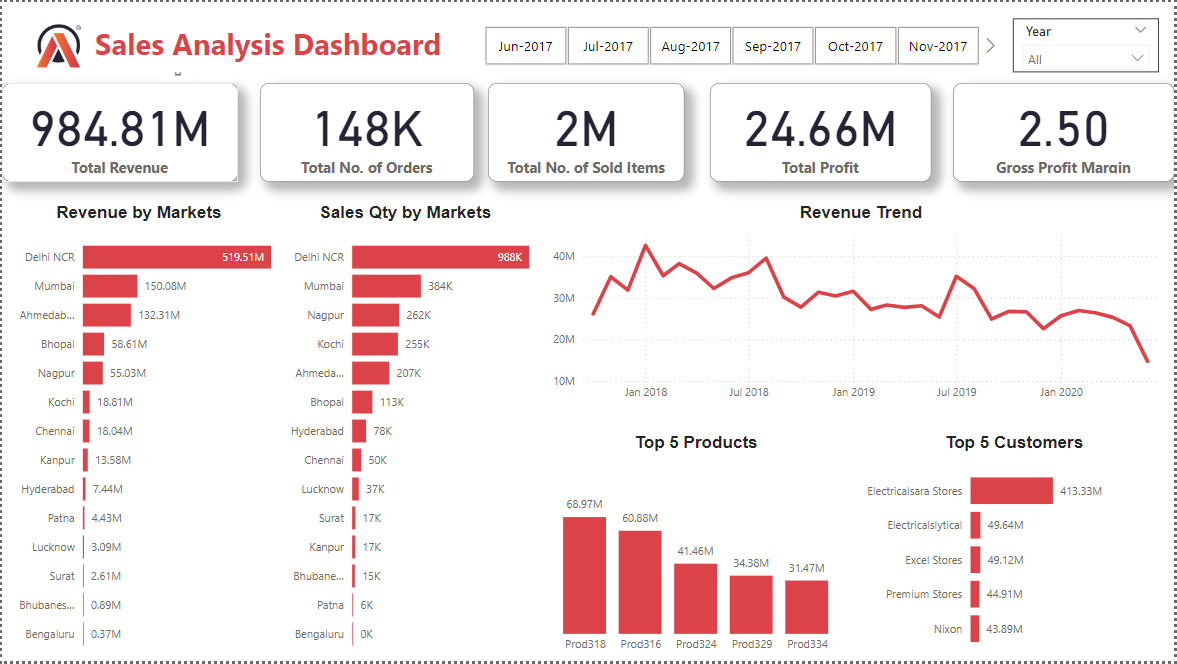

This screenshot's page, from the dashboard's own definition file:
{"tool":"powerbi","page":{"name":"Page 1","canvas":[1280,720],"ordinal":0},"visuals":[{"type":"card","fields":{"Values":["Base Measures.total_revenue"]},"box":[0,89.1,257.7,108.2],"z":0},{"type":"card","fields":{"Values":["Base Measures.order_qty"]},"box":[281.5,89.1,233.8,108.2],"z":1000},{"type":"card","fields":{"Values":["Base Measures.total_items_sold"]},"box":[531.3,89.1,214.7,108.2],"z":2000},{"type":"card","fields":{"Values":["Base Measures.total_profit"]},"box":[773,89.1,241.8,108.2],"z":3000},{"type":"slicer","fields":{"Values":["sales date.year"]},"box":[1105.5,17.5,159.1,58.9],"z":4000},{"type":"slicer","fields":{"Values":["sales date.cy_date"]},"box":[502.6,17.5,586.9,58.9],"z":5000},{"type":"clusteredBarChart","title":"Revenue by Markets","fields":{"Category":["sales markets.markets_name"],"Y":["Sum(sales transactions.sales_amount)"]},"box":[0,219.5,299,501],"z":6000},{"type":"clusteredBarChart","title":"Sales Qty by Markets","fields":{"Y":["Sum(sales transactions.sales_qty)"],"Category":["sales markets.markets_name"]},"box":[299,219.5,284.7,501],"z":7000},{"type":"barChart","title":"Top 5 Customers","fields":{"Category":["sales customers.custmer_name"],"Y":["Sum(sales transactions.sales_amount)"]},"box":[930.5,470.8,349.9,249.7],"z":8000},{"type":"columnChart","title":"Top 5 Products","fields":{"Category":["sales transactions.product_code"],"Y":["Sum(sales transactions.sales_amount)"]},"box":[583.8,470.8,349.9,249.7],"z":9000},{"type":"lineChart","title":"Revenue Trend","fields":{"Y":["Sum(sales transactions.sales_amount)"],"Category":["sales date.cy_date.Variation.Date Hierarchy.Year","sales date.cy_date.Variation.Date Hierarchy.Quarter","sales date.cy_date.Variation.Date Hierarchy.Month","sales date.cy_date.Variation.Date Hierarchy.Day"]},"box":[596.5,219.5,684,224.3],"z":10000},{"type":"card","fields":{"Values":["Base Measures.gross_profit_perc"]},"box":[1038.7,89.1,241.8,108.2],"z":11000},{"type":"textbox","box":[97,0,402.4,76.3],"z":12000},{"type":"image","box":[11.1,17.5,101.8,58.9],"z":12001}]}

Visuals, with their boxes in screenshot pixels (x1, y1, x2, y2), scaled from the page's 1280x720 canvas onto the 1177x664 screenshot:
card - Base Measures.total_revenue: 0,82,237,182
card - Base Measures.order_qty: 259,82,474,182
card - Base Measures.total_items_sold: 489,82,686,182
card - Base Measures.total_profit: 711,82,933,182
slicer - sales date.year: 1017,16,1163,70
slicer - sales date.cy_date: 462,16,1002,70
"Revenue by Markets" clusteredBarChart: 0,202,275,663
"Sales Qty by Markets" clusteredBarChart: 275,202,537,663
"Top 5 Customers" barChart: 856,434,1176,663
"Top 5 Products" columnChart: 537,434,859,663
"Revenue Trend" lineChart: 549,202,1176,409
card - Base Measures.gross_profit_perc: 955,82,1176,182
textbox: 89,0,459,70
image: 10,16,104,70
